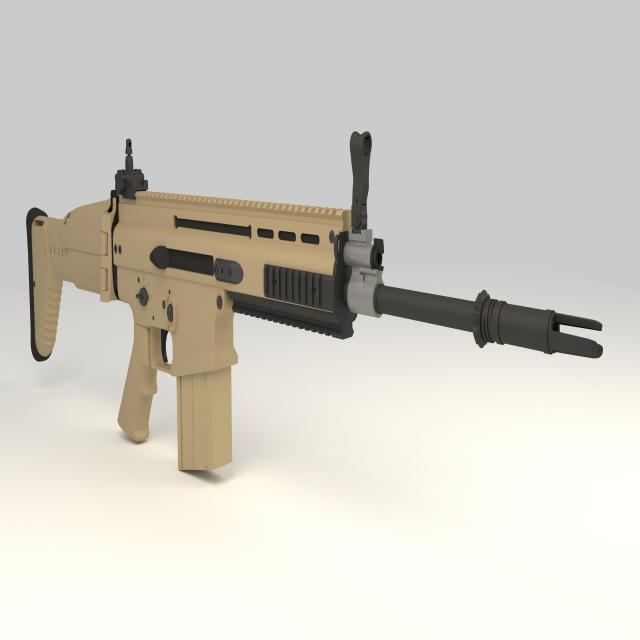Gun: (0, 125, 615, 500)
